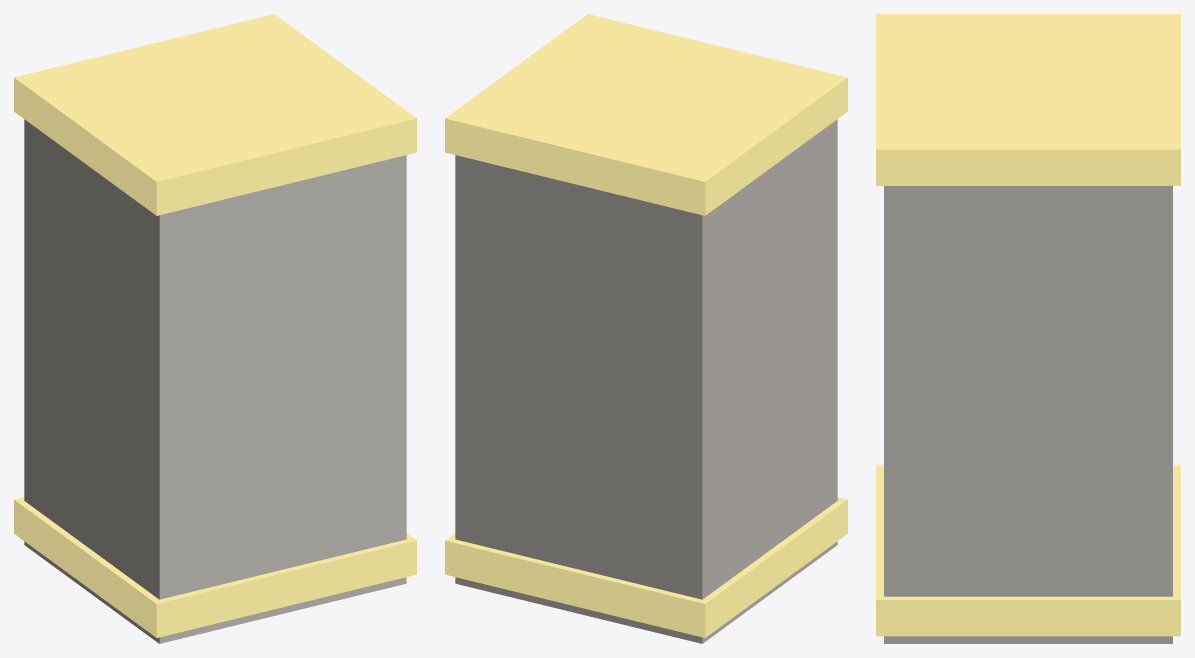
File: wall.glb
The picture shows the model from 3 angles, left to right: view 1: azimuth 30°, elevation 25°; view 2: azimuth 150°, elevation 25°; view 3: azimuth 270°, elevation 25°; orthographic projection. The views are drawn at different scales.
Visible parts, largest first — view 1: kingdom wall; view 2: kingdom wall; view 3: kingdom wall.
Boxes of the visible parts, box(x1,y1,x2,y2) form: kingdom wall: box(14, 14, 416, 643); kingdom wall: box(445, 14, 847, 643); kingdom wall: box(876, 14, 1180, 643).
Size of the model in its own units: 2 by 3.42 by 1.9.
